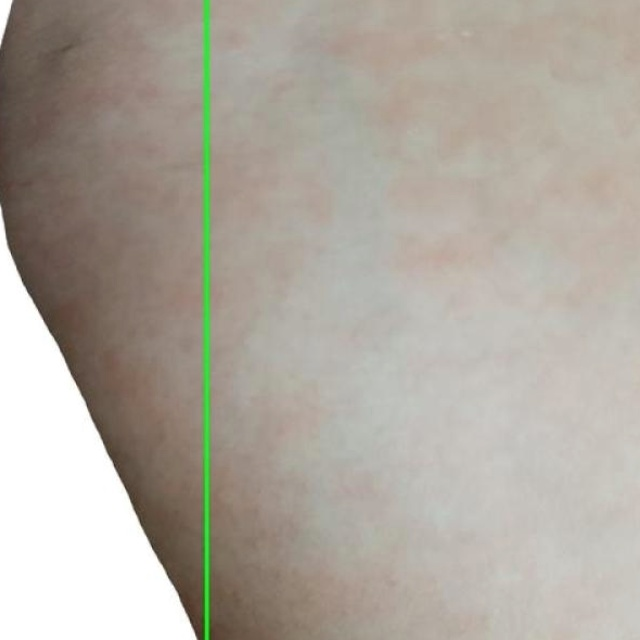Contact Dermatitis: (0, 0, 206, 639)
